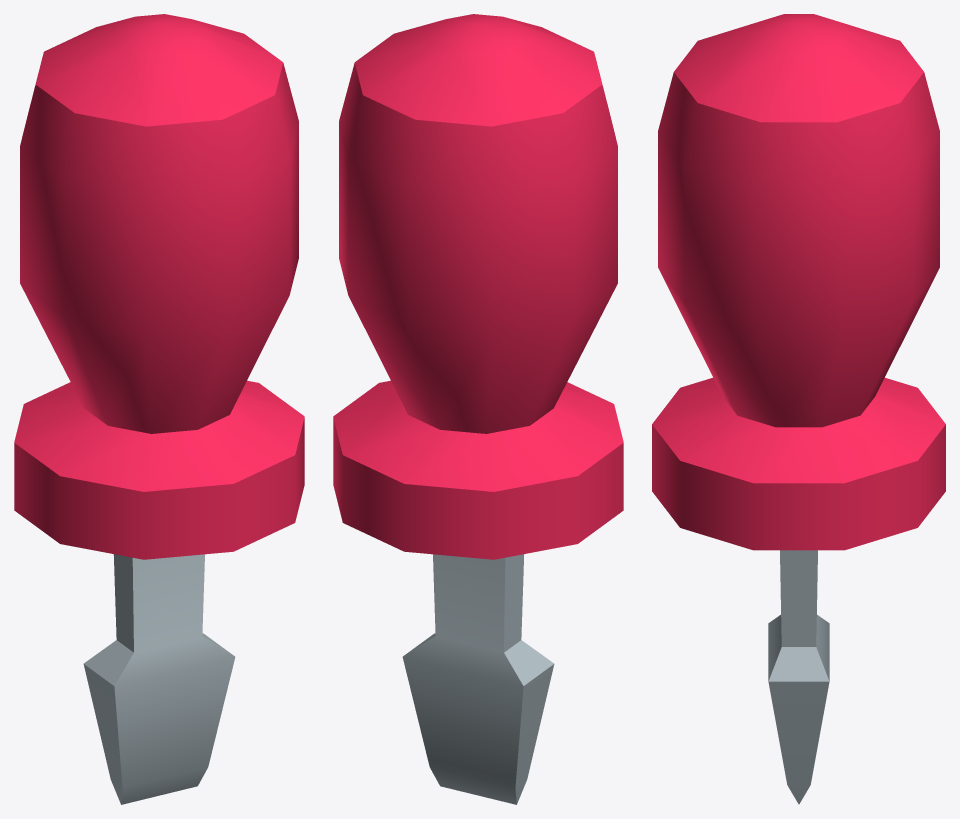
Rendered from screwdriver.gltf.glb.
3 renders of one model, left to right at view 1: azimuth 30°, elevation 25°; view 2: azimuth 150°, elevation 25°; view 3: azimuth 270°, elevation 25°, orthographic.
Visible parts, largest first — view 1: screwdriver; view 2: screwdriver; view 3: screwdriver.
Boxes of the visible parts, <box> form: screwdriver: <box>14,14,304,804</box>; screwdriver: <box>333,14,623,804</box>; screwdriver: <box>652,14,945,804</box>.
Bounding box in the file's own units: 0.1196 × 0.3601 × 0.1257.
